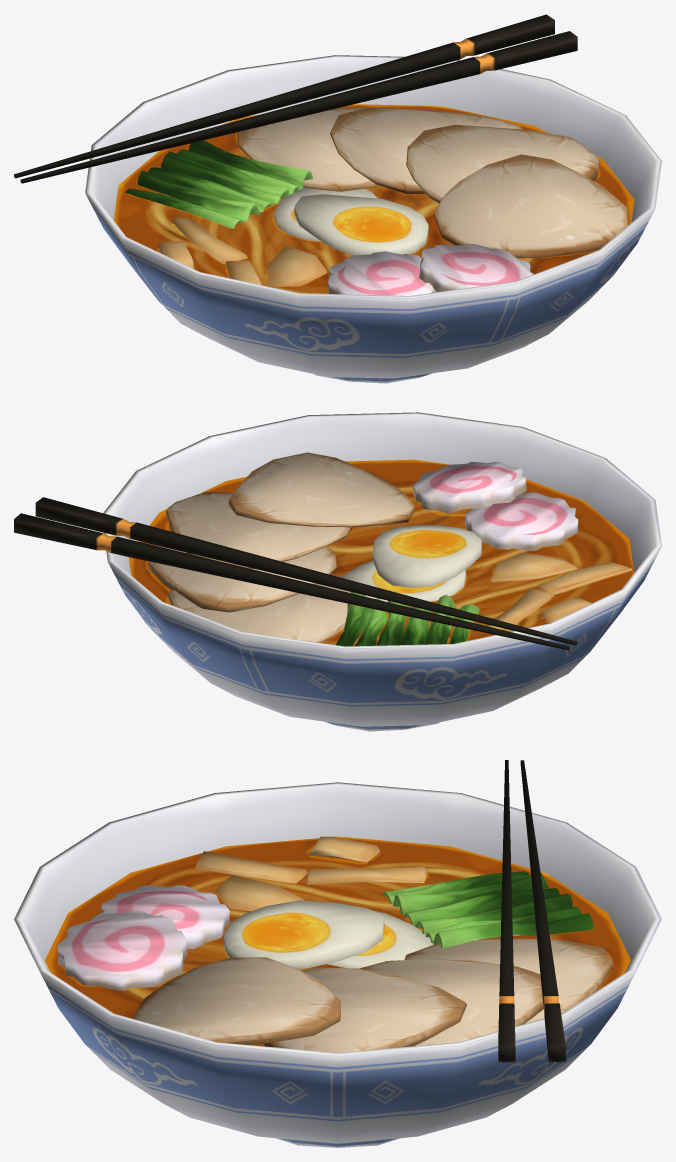
The model's file is ramen.glb.
3 views of the same model, one above another, from view 1: azimuth 30°, elevation 25°; view 2: azimuth 150°, elevation 25°; view 3: azimuth 270°, elevation 25° (orthographic). The views are drawn at different scales.
Parts seen in each view (by area): view 1: Assembla; view 2: Assembla; view 3: Assembla.
Boxes of the visible parts, x1,y1,x2,y2 form: Assembla: (14, 14, 661, 383); Assembla: (14, 412, 661, 731); Assembla: (14, 760, 661, 1147).
Bounding box in the file's own units: 243 × 79.59 × 222.
Materials: 1 (1 with a texture image).
